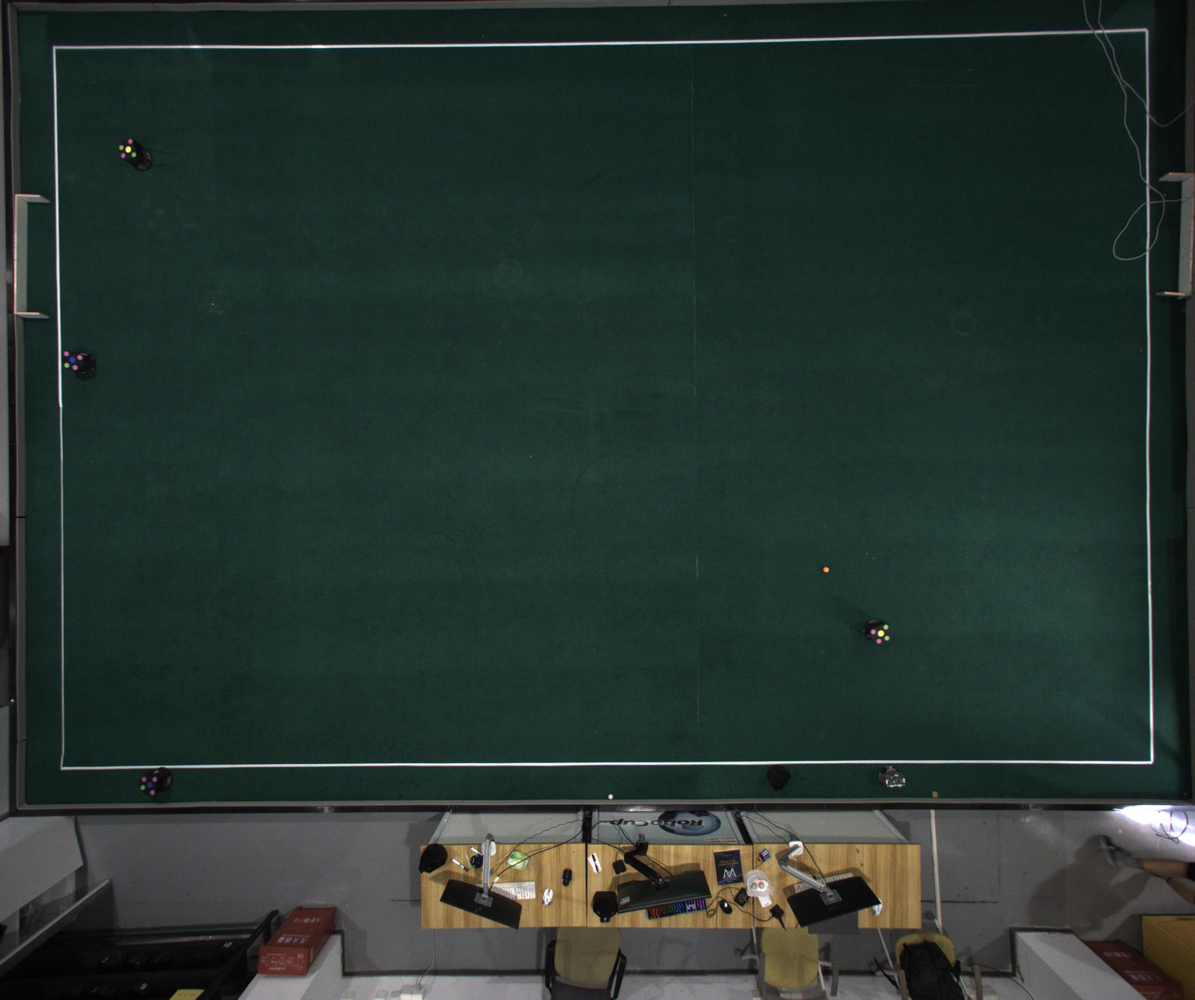ball: (823, 567, 829, 573)
blue_bot: (62, 351, 84, 371), (140, 775, 160, 796)
yellow_bot: (118, 138, 137, 161), (870, 624, 891, 644)
